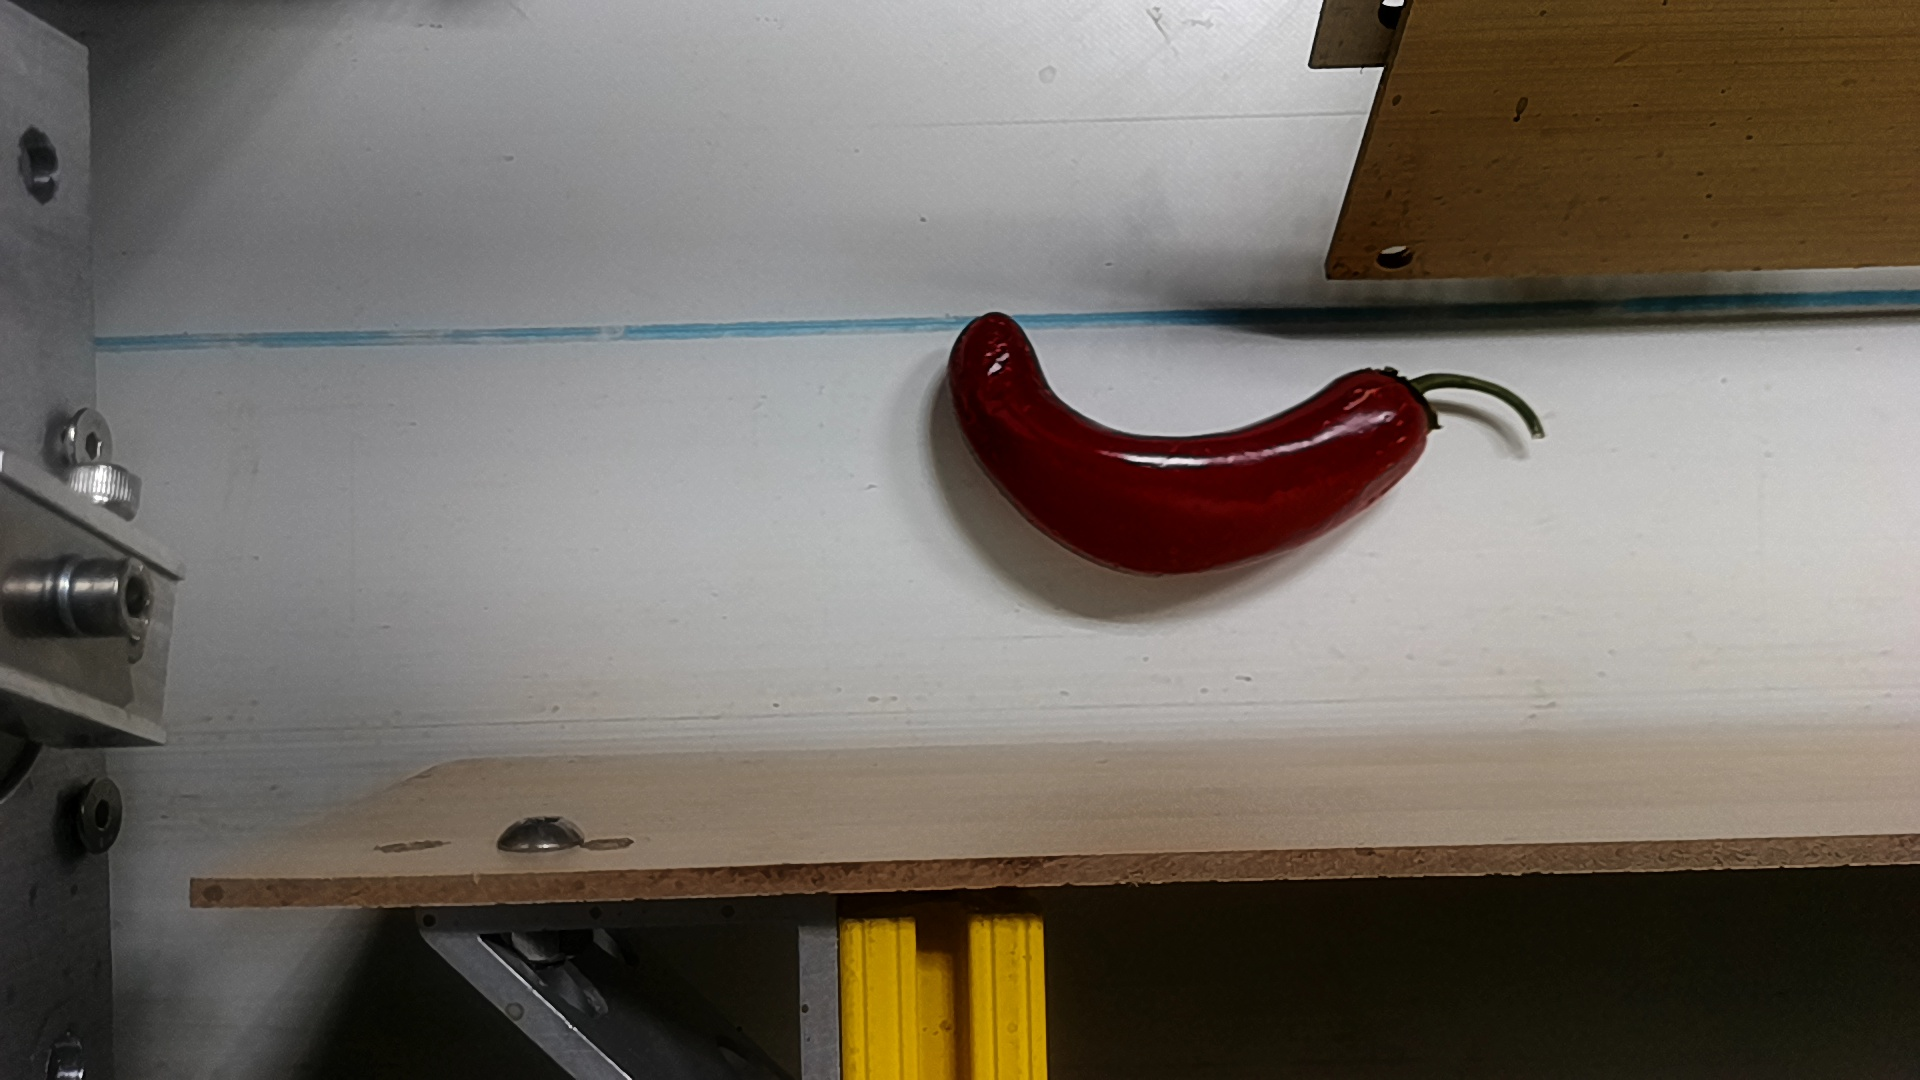Cut Point: (1336, 340, 1466, 462)
